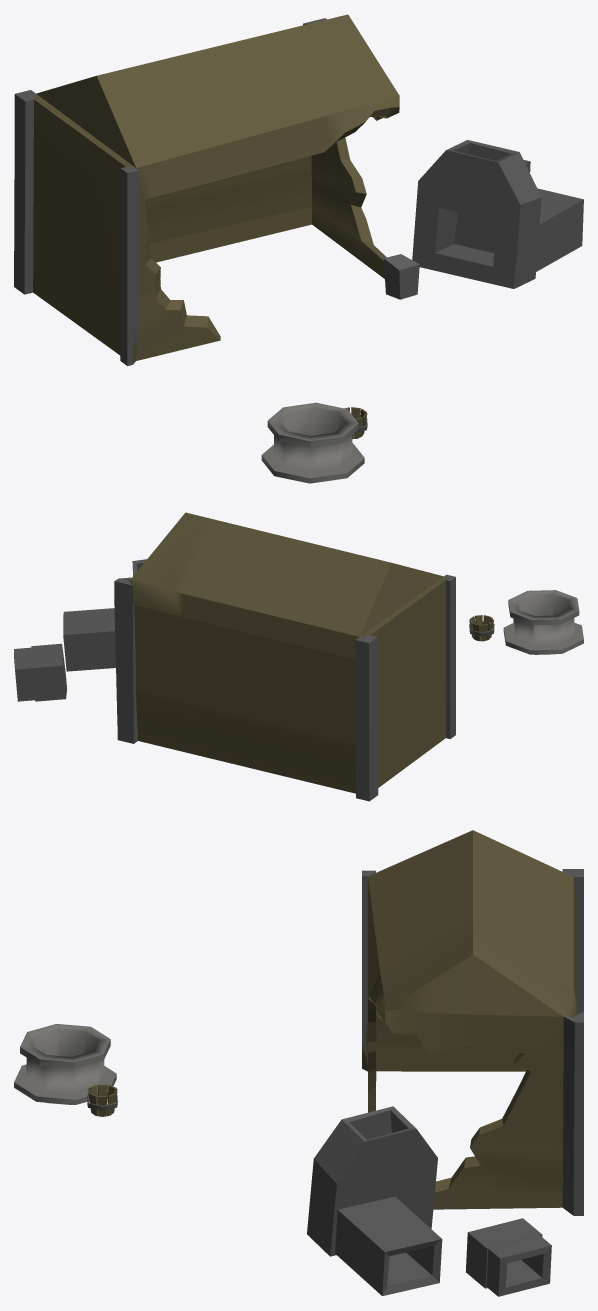
File: Cabaña y pozo.fbx
The picture shows the model from 3 angles, top to bottom: view 1: azimuth 30°, elevation 25°; view 2: azimuth 150°, elevation 25°; view 3: azimuth 270°, elevation 25°; orthographic projection. The views are drawn at different scales.
Visible parts, largest first — view 1: Cabaña, Horno, Pozo; view 2: Cabaña, Horno, Pozo, Cubeta; view 3: Cabaña, Horno, Pozo, Cubeta.
Boxes of the visible parts, <box> form: Cabaña: <box>14,14,419,365</box>; Horno: <box>412,140,583,288</box>; Pozo: <box>261,402,364,483</box>; Cabaña: <box>114,512,455,801</box>; Horno: <box>14,559,146,701</box>; Pozo: <box>503,590,583,654</box>; Cubeta: <box>469,615,494,641</box>; Cabaña: <box>362,830,583,1215</box>; Horno: <box>307,1106,551,1296</box>; Pozo: <box>14,1024,116,1104</box>; Cubeta: <box>87,1084,117,1116</box>.
Bounding box in the file's own units: 13.4 × 6.73 × 13.72.
